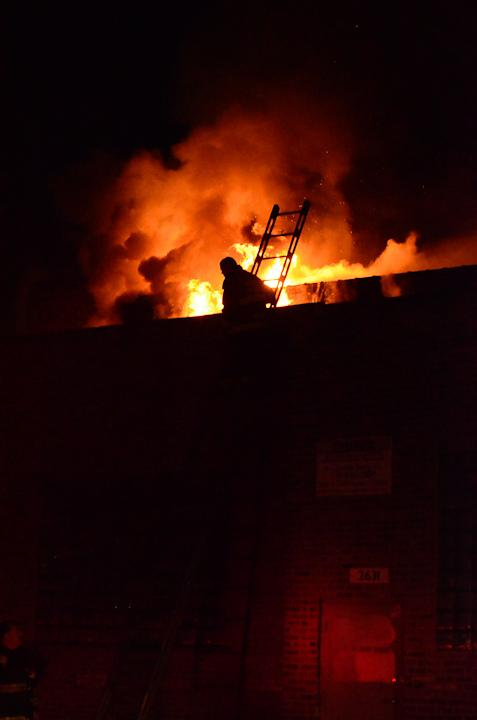fire: (242, 236, 290, 302), (184, 272, 212, 316)
smoke: (188, 132, 304, 222)
